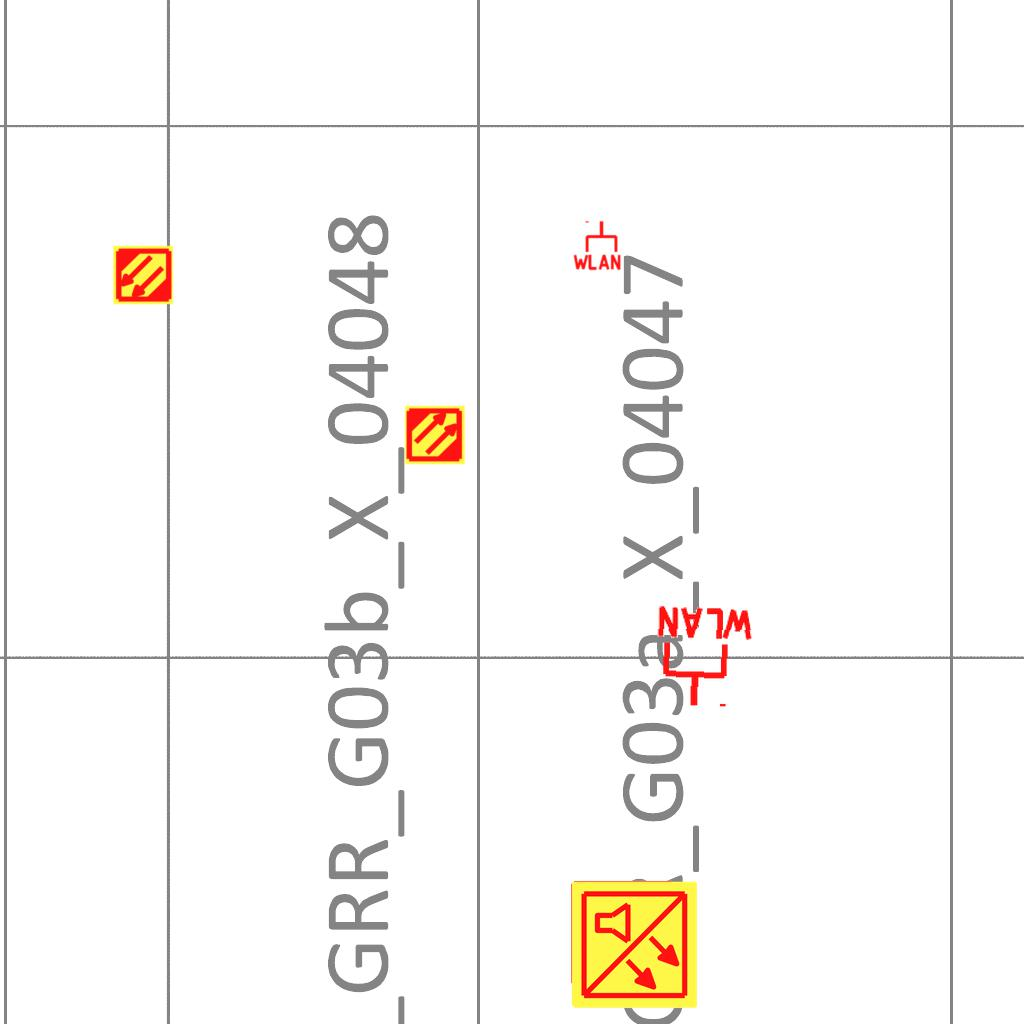ASR_Ansaugrauchmelder: (404, 404, 466, 466), (112, 244, 174, 306)
OKW_Multisensormelder_(Kombination_optischer_Rauch-Kahlenmonoxid_Waerme-Melder): (568, 879, 700, 1011)
WLAN: (650, 603, 759, 713), (571, 219, 623, 271)
